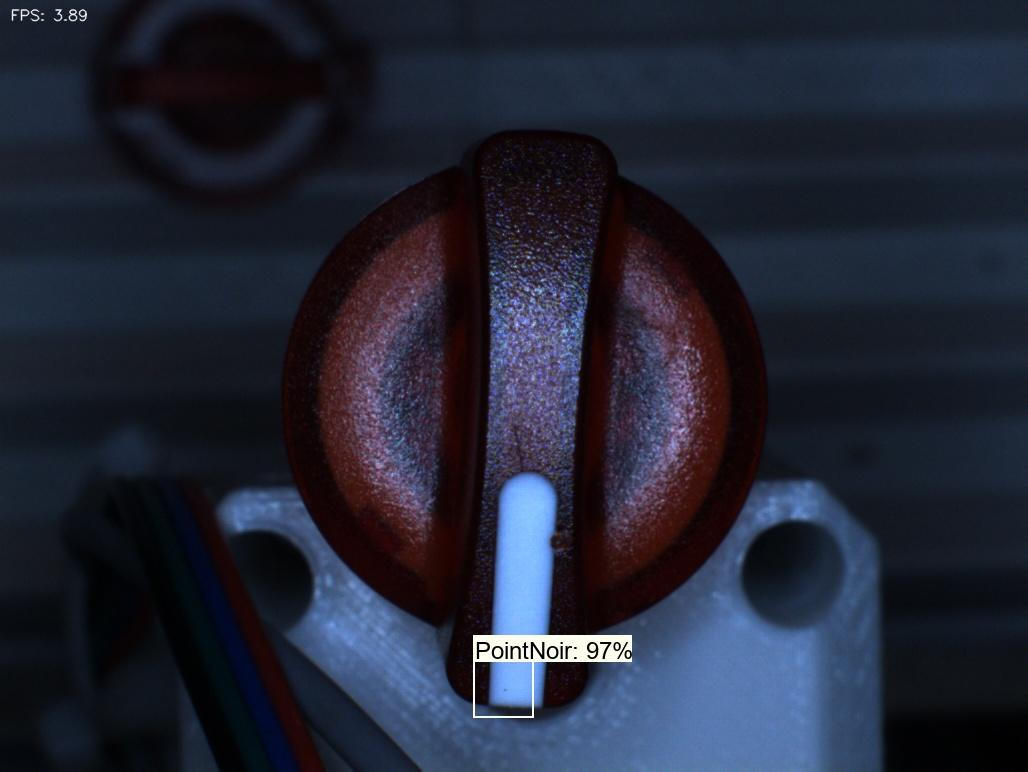Choc: (520, 509, 596, 580)
